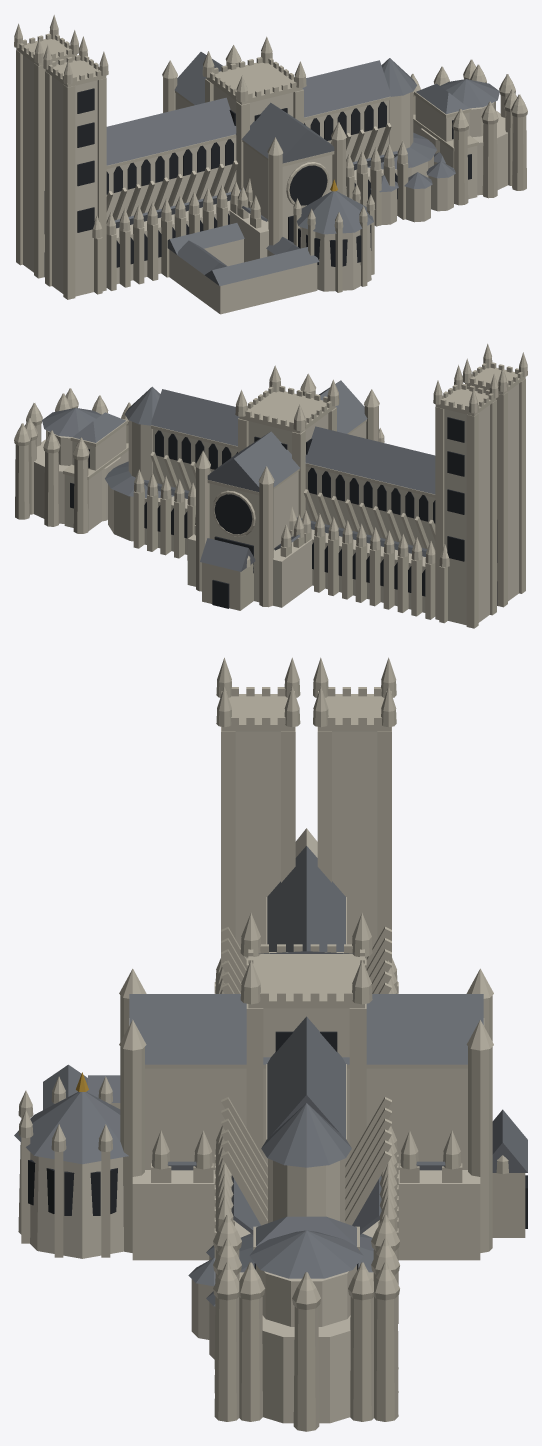
The model's file is westminster_abbey.glb.
3 views of the same model, one above another, from view 1: azimuth 30°, elevation 25°; view 2: azimuth 150°, elevation 25°; view 3: azimuth 270°, elevation 25° (orthographic). The views are drawn at different scales.
Parts seen in each view (by area): view 1: westminster_abbey; view 2: westminster_abbey; view 3: westminster_abbey.
Boxes of the visible parts, x1,y1,x2,y2 form: westminster_abbey: (14, 15, 527, 314); westminster_abbey: (14, 343, 527, 628); westminster_abbey: (14, 657, 527, 1431).
Bounding box in the file's own units: 162 × 77.8 × 91.7.
